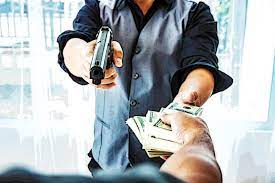gun: (88, 24, 121, 87)
